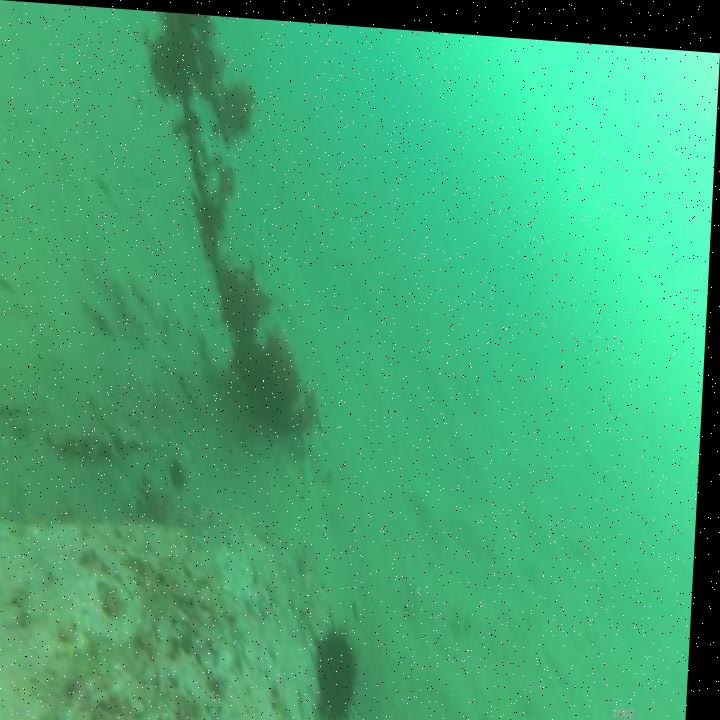echinus: (320, 621, 367, 714)
